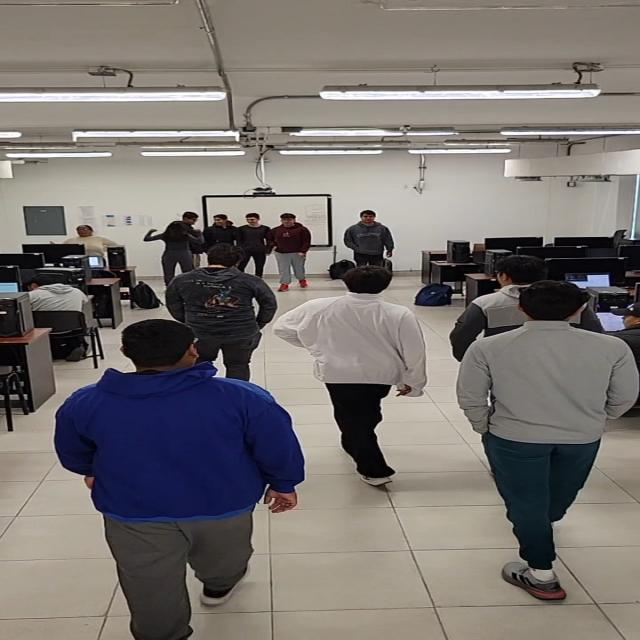Persona: (51, 318, 308, 640), (457, 279, 640, 604), (271, 264, 431, 490), (450, 255, 609, 362), (166, 240, 279, 382), (143, 220, 206, 284), (273, 213, 313, 292), (343, 210, 395, 266), (238, 212, 275, 280), (202, 212, 245, 255), (180, 209, 200, 237)
